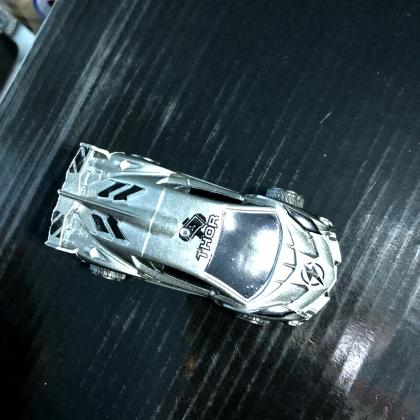Car: (45, 144, 342, 327)
